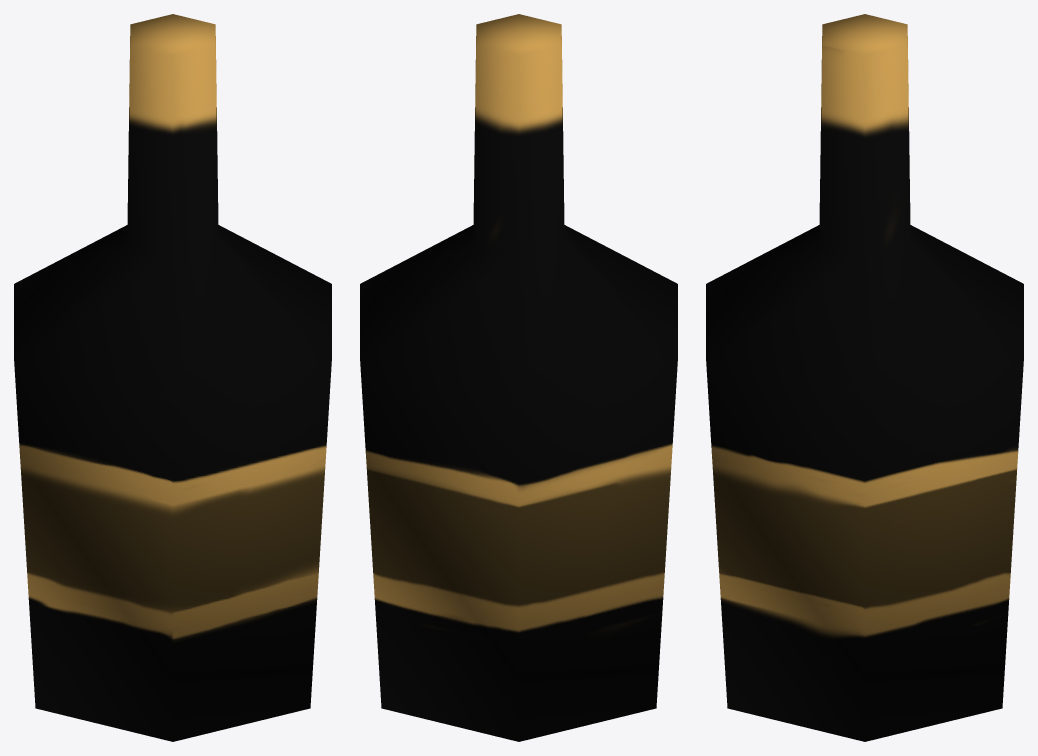
The model's file is Bottle.fbx.
3 views of the same model, side by side, from view 1: azimuth 30°, elevation 25°; view 2: azimuth 150°, elevation 25°; view 3: azimuth 270°, elevation 25° (orthographic).
Parts seen in each view (by area): view 1: Plane; view 2: Plane; view 3: Plane.
Boxes of the visible parts, x1,y1,x2,y2 form: Plane: (14, 14, 331, 741); Plane: (360, 14, 677, 741); Plane: (706, 14, 1023, 741).
Size of the model in its own units: 27.39 by 52.93 by 23.72.
